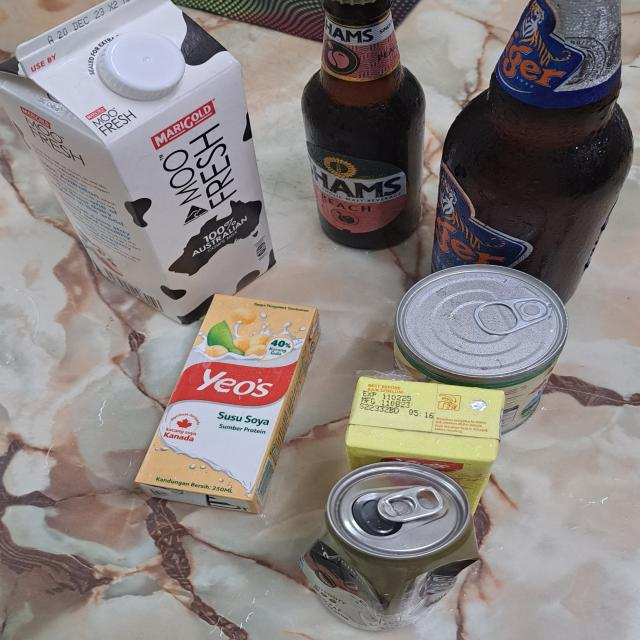can: (300, 460, 478, 633), (392, 262, 571, 434)
drink carton: (0, 0, 273, 328), (137, 295, 319, 515), (346, 373, 502, 518)
glass bottle: (432, 0, 636, 304), (301, 0, 425, 250), (96, 30, 182, 101)
pop tab: (475, 293, 556, 339), (379, 484, 447, 521)
